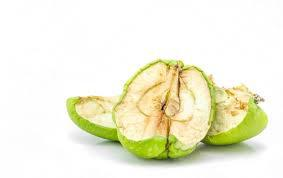damaged_apple: (113, 61, 212, 157), (201, 58, 268, 150)
